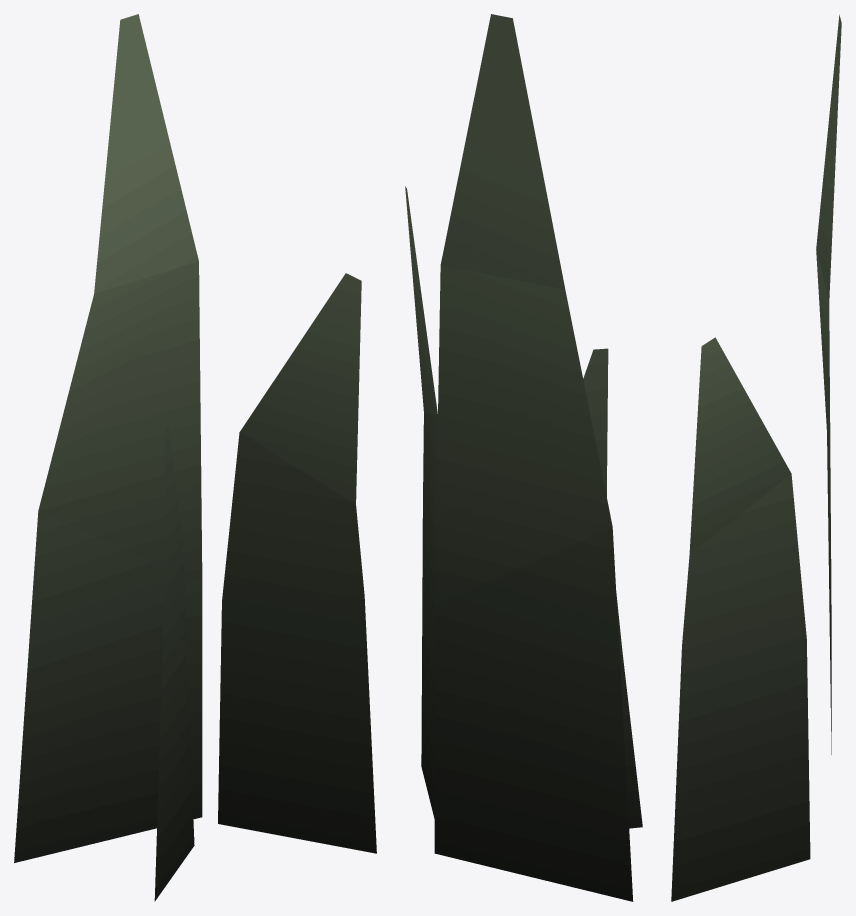
The model's file is GrassBunch2.glb.
3 views of the same model, side by side, from view 1: azimuth 30°, elevation 25°; view 2: azimuth 150°, elevation 25°; view 3: azimuth 270°, elevation 25° (orthographic). The views are drawn at different scales.
Visible parts, largest first — view 1: GrassBunch2; view 2: GrassBunch2; view 3: GrassBunch2.
Part boxes in pixels (x1,y1,x2,y2): GrassBunch2: (14, 14, 376, 901); GrassBunch2: (405, 14, 642, 901); GrassBunch2: (671, 14, 841, 901).
Bounding box in the file's own units: 0.1916 × 0.5285 × 0.1014.
Materials: 1 (1 with a texture image).
